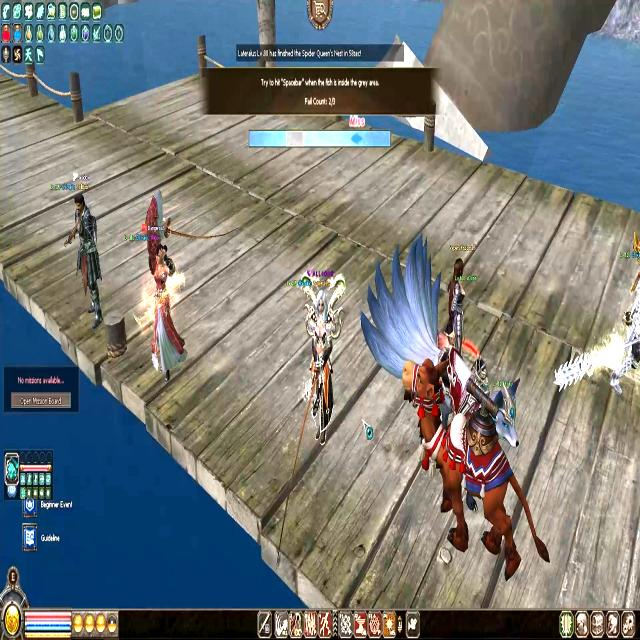fishes: (350, 132, 362, 145)
